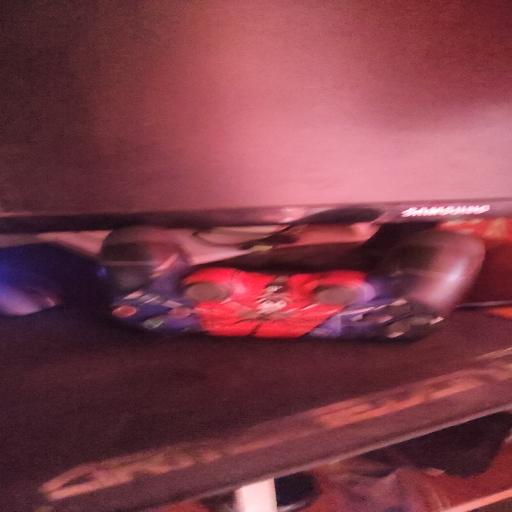ControlPlay4: (100, 226, 484, 341)
